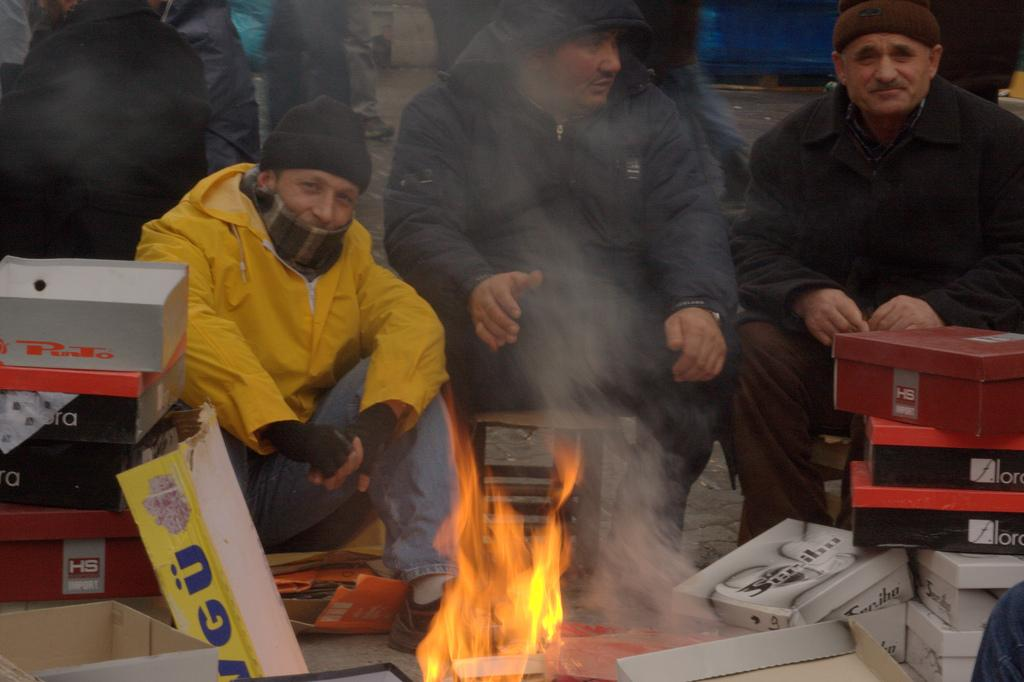fire: (438, 488, 558, 682)
